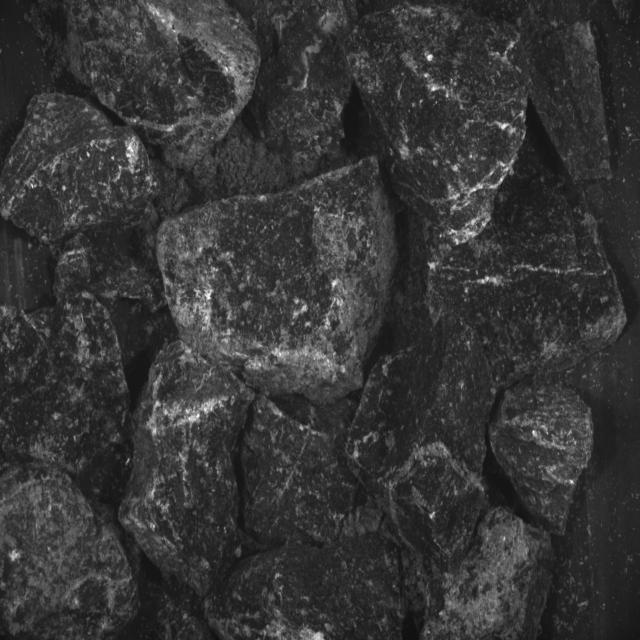Stones: (349, 173, 626, 564), (120, 341, 405, 640), (159, 158, 397, 404), (349, 6, 529, 243), (69, 1, 261, 170), (1, 294, 132, 498), (1, 465, 139, 640), (1, 94, 156, 245), (239, 1, 352, 186), (421, 509, 554, 640), (490, 384, 594, 536), (529, 23, 612, 183)
